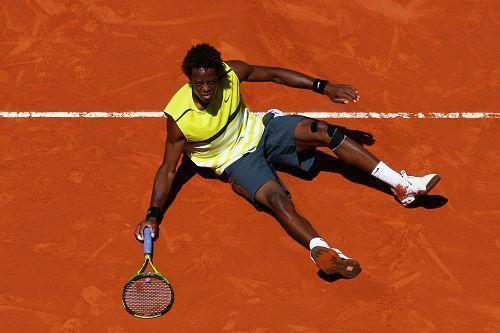Fall-Detected: (129, 41, 463, 259)
